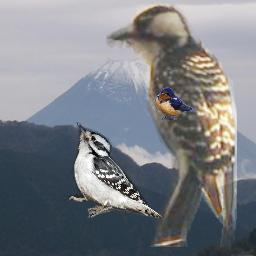Swallow: (153, 87, 198, 121)
Woodpecker: (106, 3, 237, 247), (66, 122, 162, 218)
